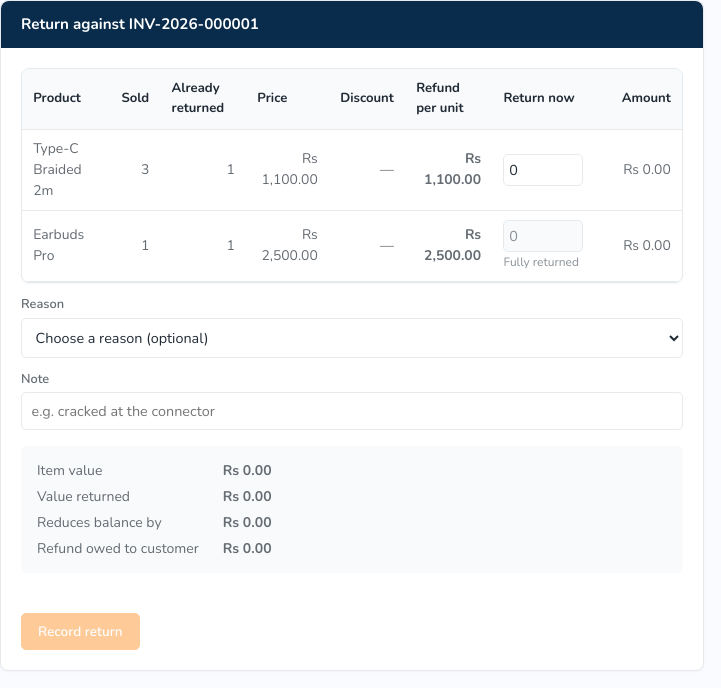
it: SaleReturnForm › caps a line at what is still returnable
Replace the text in the number field named "Return quantity for Type-C Braided 2m" with "5" at (543, 170), box [503, 154, 583, 186]
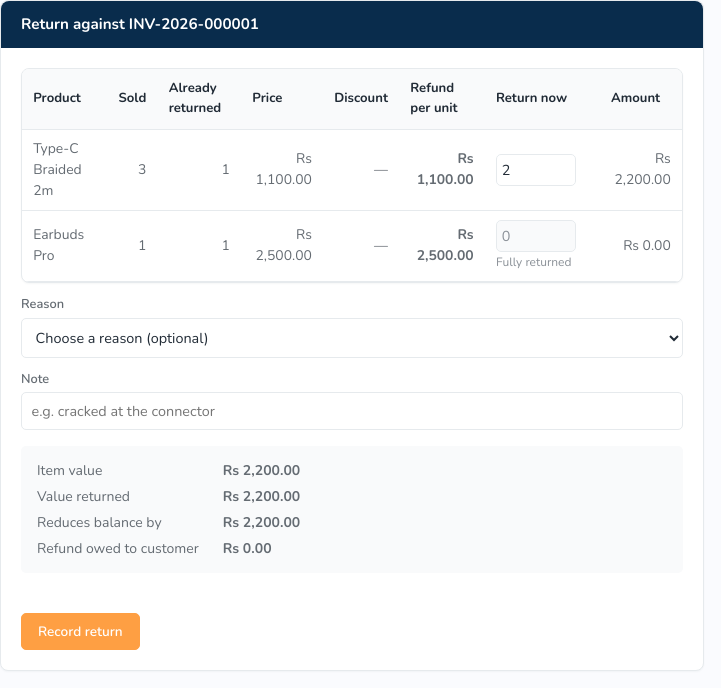
Result: the number field named "Return quantity for Type-C Braided 2m" holds "2" at [496, 154, 576, 186]
